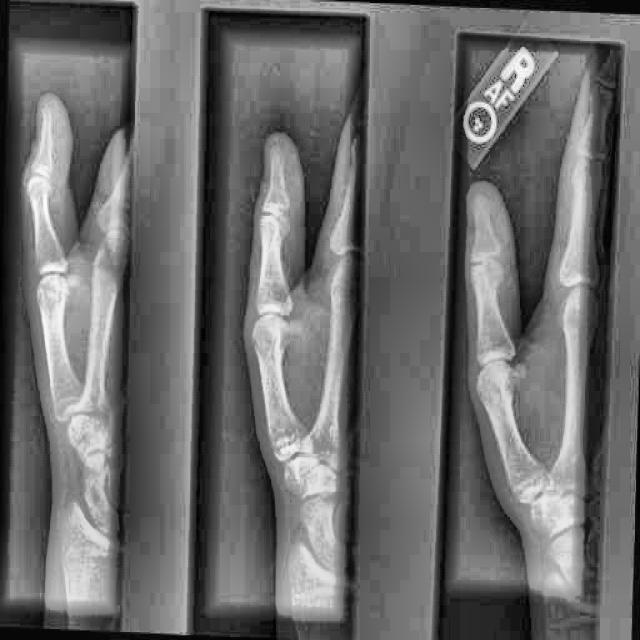fingers positive: (468, 206, 499, 243)
